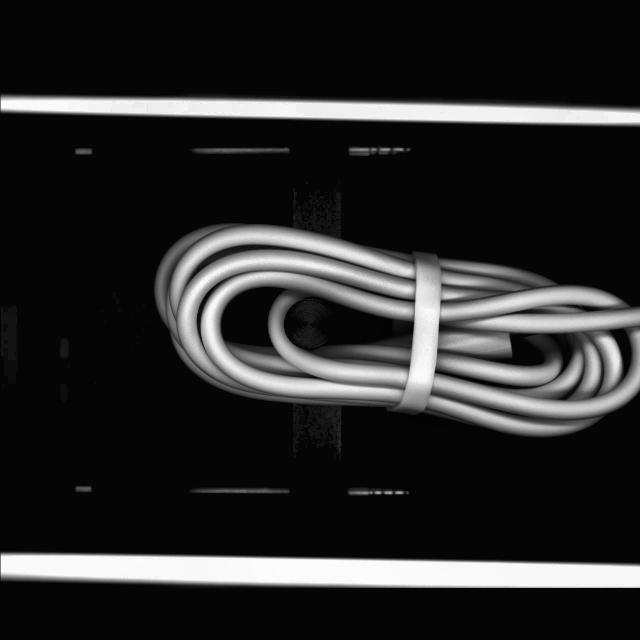Cable: (148, 212, 640, 446)
